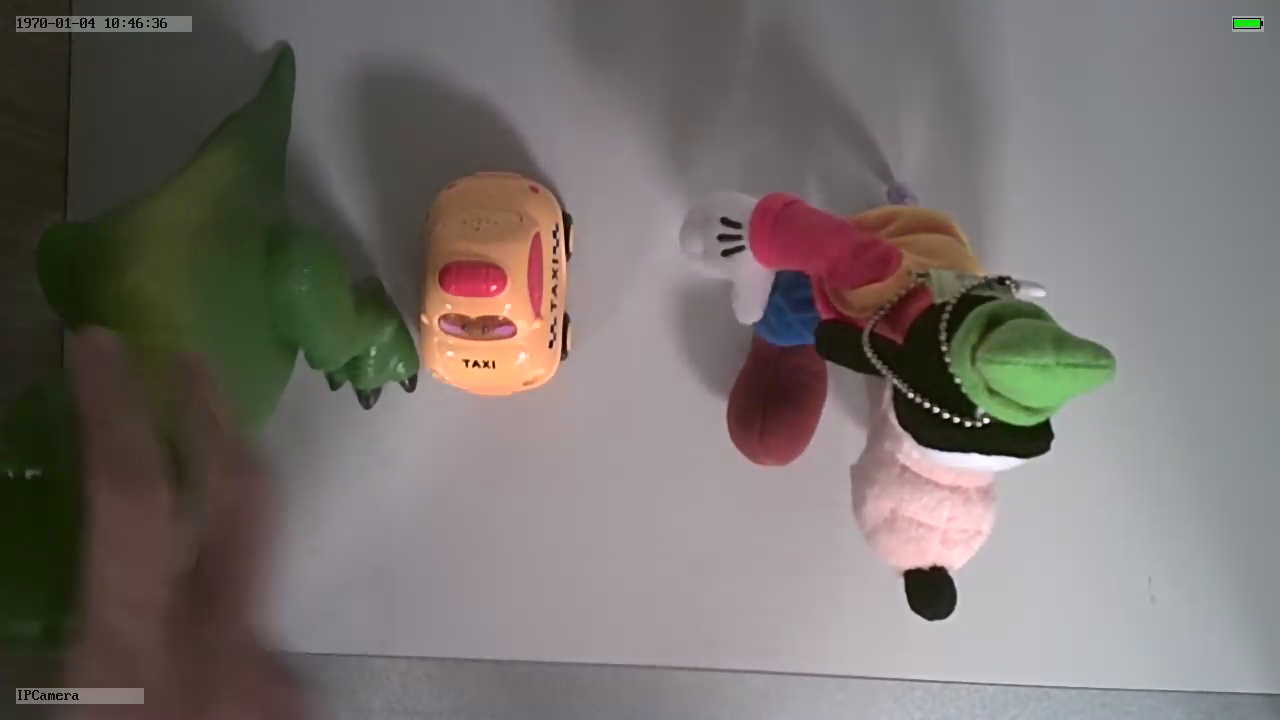goofy: (676, 183, 1116, 624)
